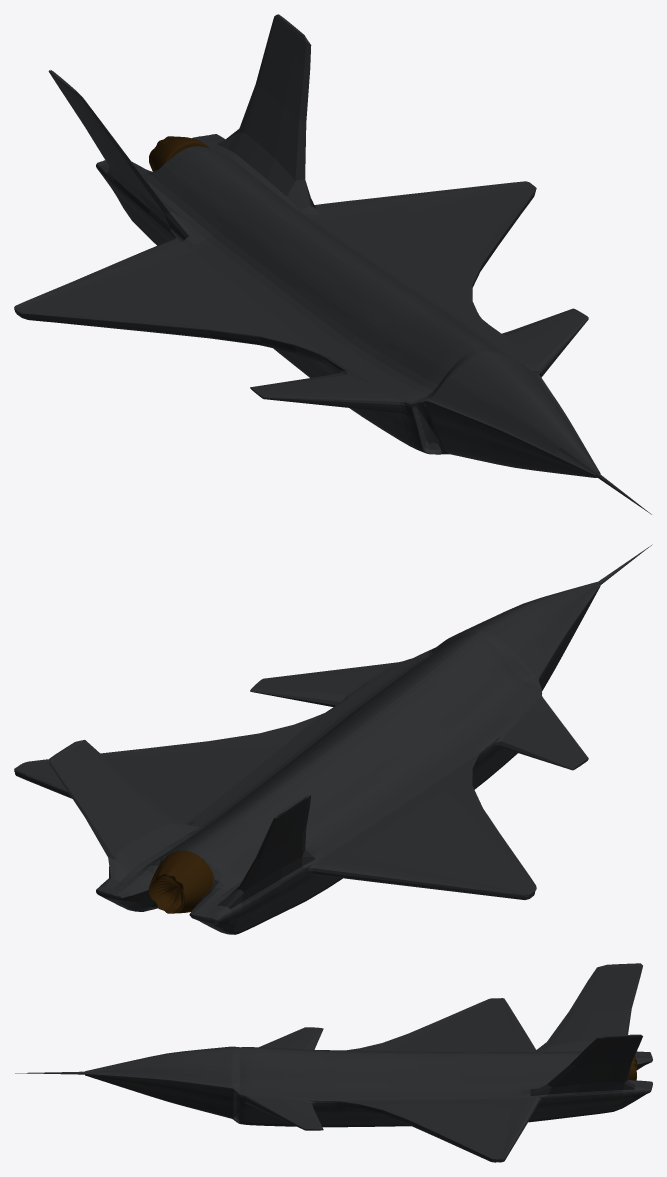
Rendered from Kizilelma-New.fbx.
The picture shows the model from 3 angles, top to bottom: view 1: azimuth 30°, elevation 25°; view 2: azimuth 150°, elevation 25°; view 3: azimuth 270°, elevation 25°; orthographic projection. The views are drawn at different scales.
Visible parts, largest first — view 1: Kizilelma, Engine; view 2: Kizilelma, Engine; view 3: Kizilelma.
Part boxes in pixels (x1,y1,x2,y2): Kizilelma: [14, 14, 651, 514]; Engine: [149, 136, 209, 171]; Kizilelma: [14, 544, 652, 934]; Engine: [148, 850, 212, 913]; Kizilelma: [15, 963, 652, 1162].
Size of the model in its own units: 10.78 by 3.45 by 18.04.
